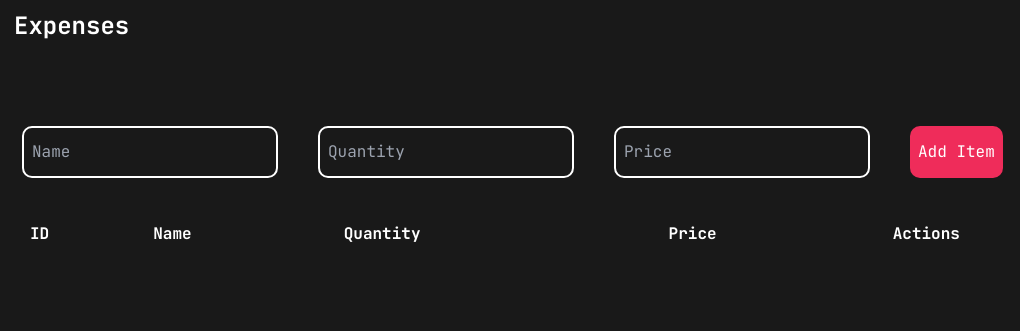
Test: Expenses Page › adds an item when input fields are filled and Add Item is clicked
This screenshot has width=1020, height=331.
Step 1. Type "Test Item" into the field with placeholder "Name" → (150, 152), box [22,126,278,178]
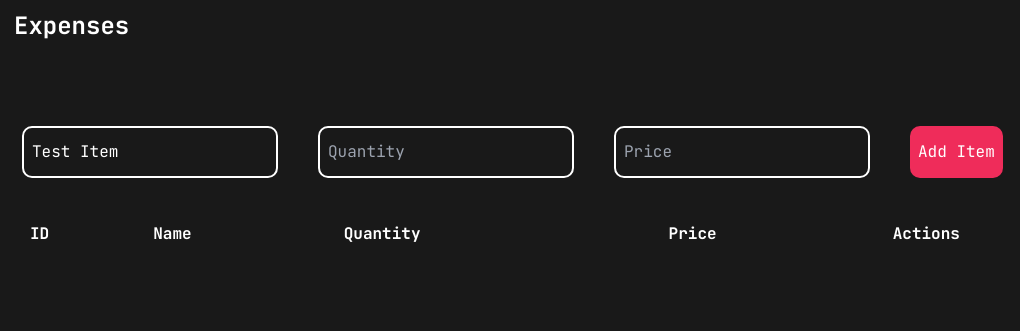
Step 2. Type "2" into the field with placeholder "Quantity" → (446, 152), box [318,126,574,178]
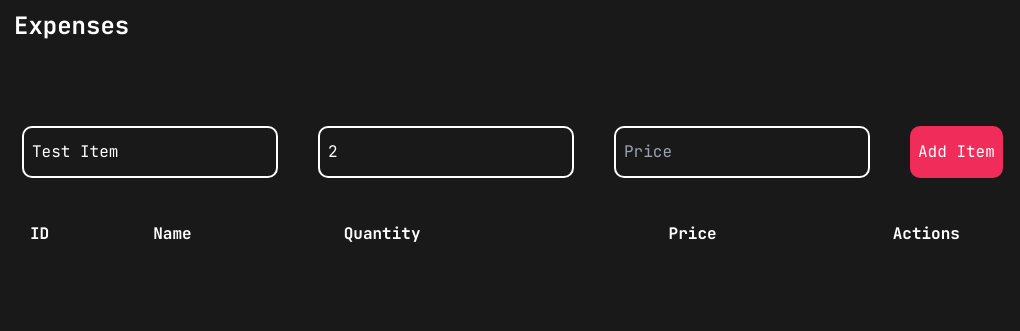
Step 3. Type "10" into the field with placeholder "Price" → (742, 152), box [614,126,870,178]
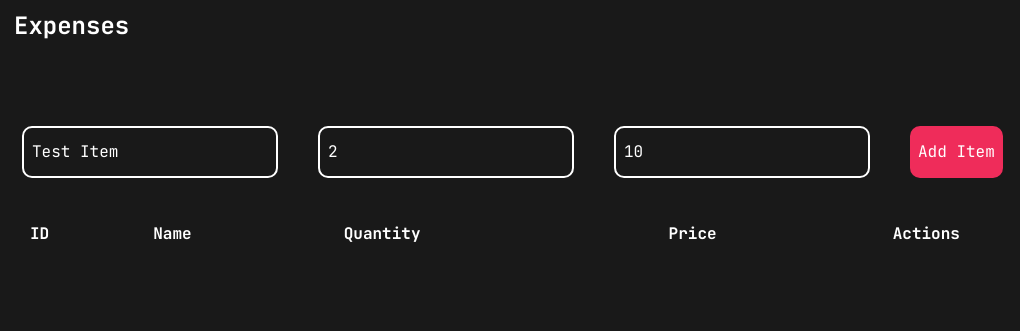
Step 4. Click the button "Add Item" → (956, 152), box [910,126,1003,178]
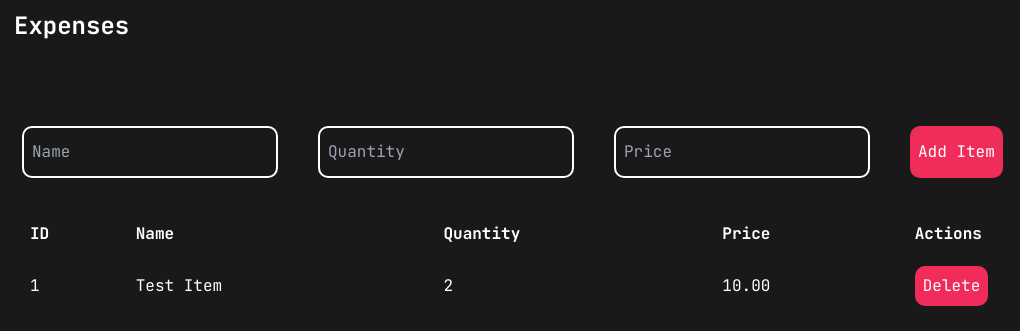
Expected: the text "Test Item" is shown, [128,258,436,314]
Expected: the text "2" is shown, [436,258,714,314]
Expected: the text "10.00" is shown, [714,258,907,314]
